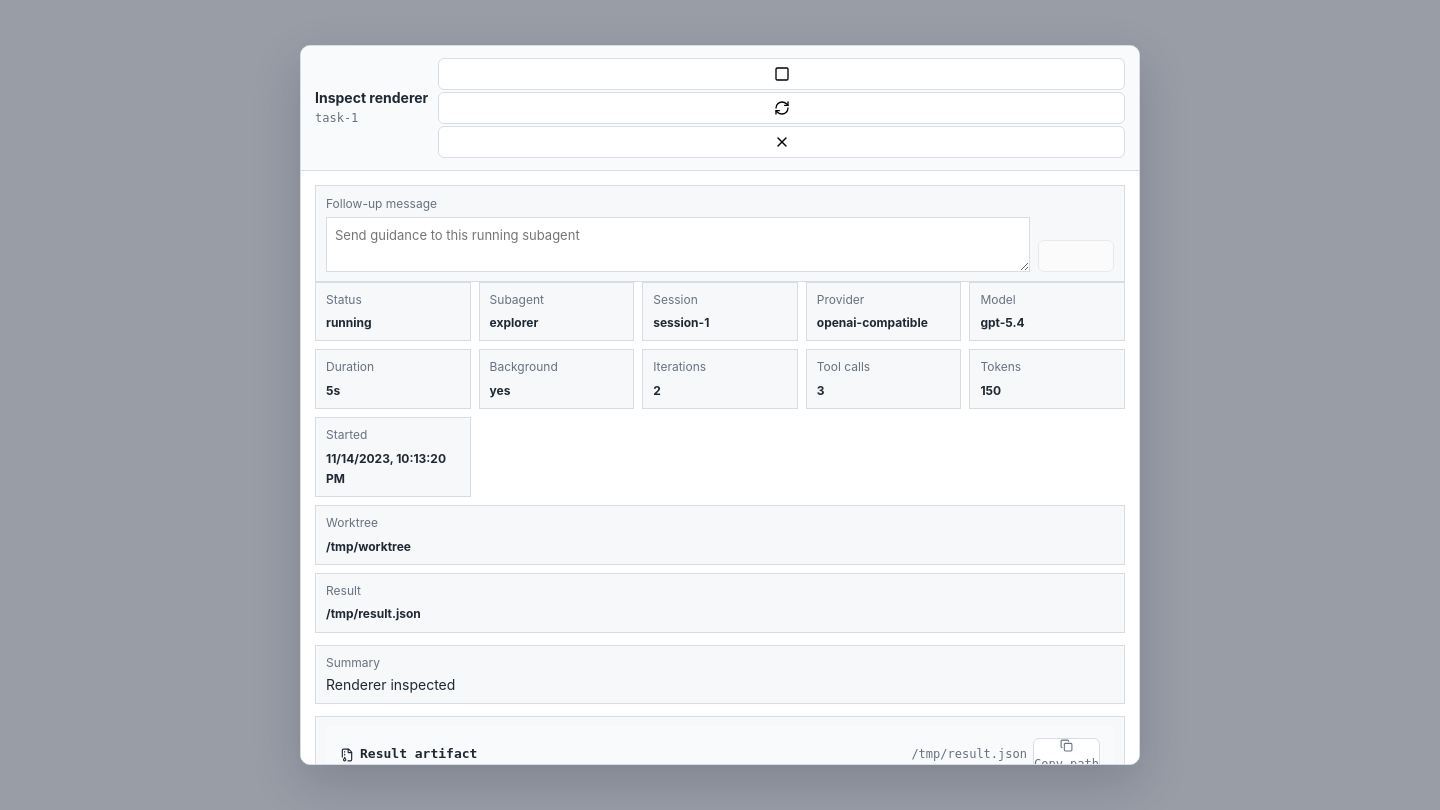
Scenario: TaskDetailDialog › sends a stop signal for active tasks and refreshes detail
Step 1. Click the button named "Stop task" → (782, 74), box [438,58,1125,90]
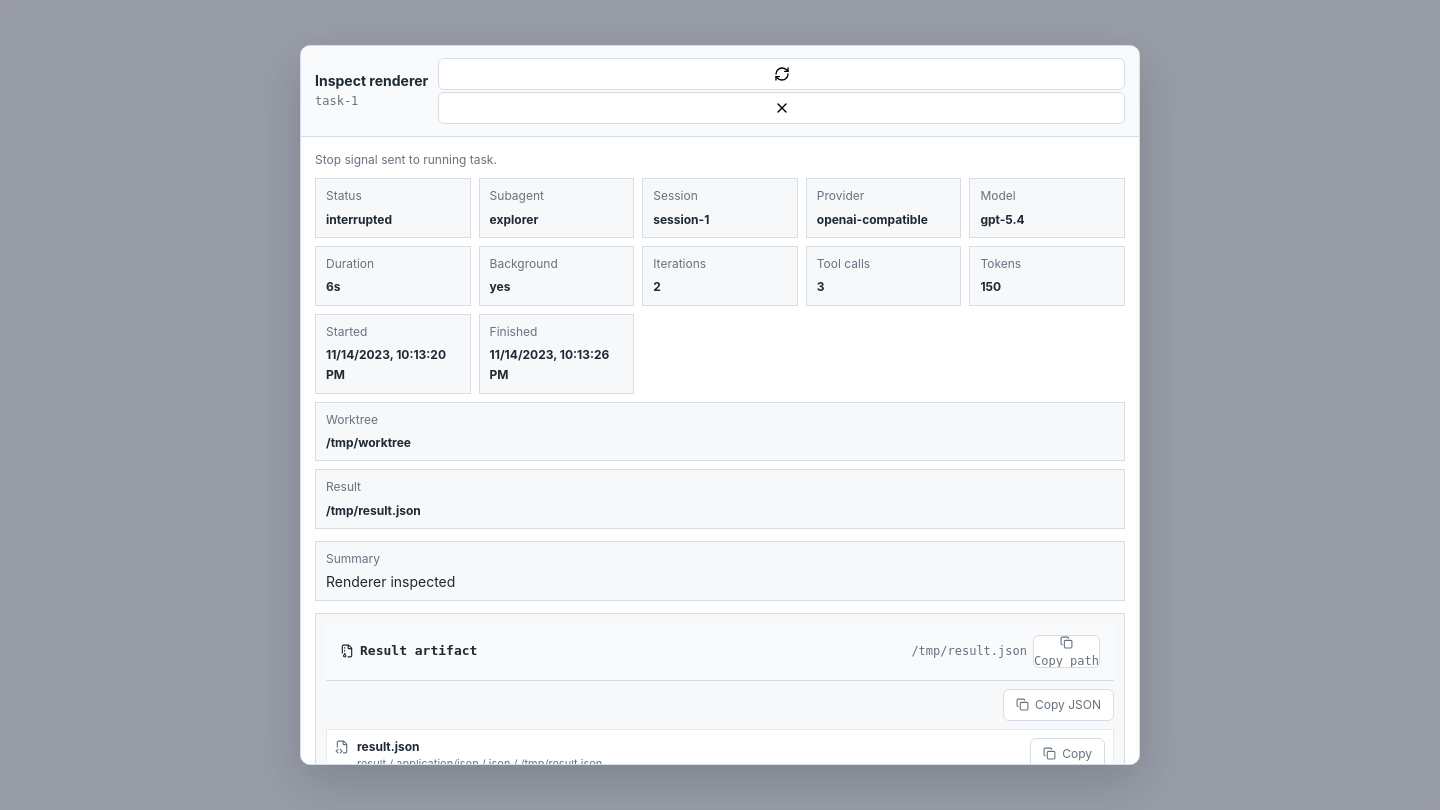
Now the text "Stop signal sent to running task." is shown, box [315,152,497,167]
Now the text "interrupted" is shown, box [326,212,392,227]
